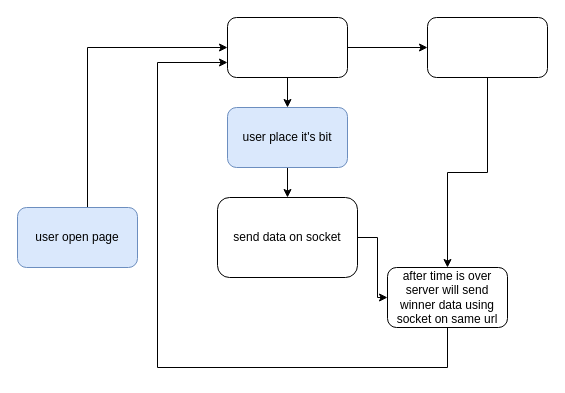
Image size: 565x393. Some labels were removed from this diagram. Each missing label, with the centre of its shape:
get session id from server & make connections with server user socket: pixel 287 47
get the time by server and Update that time by server: pixel 487 47
